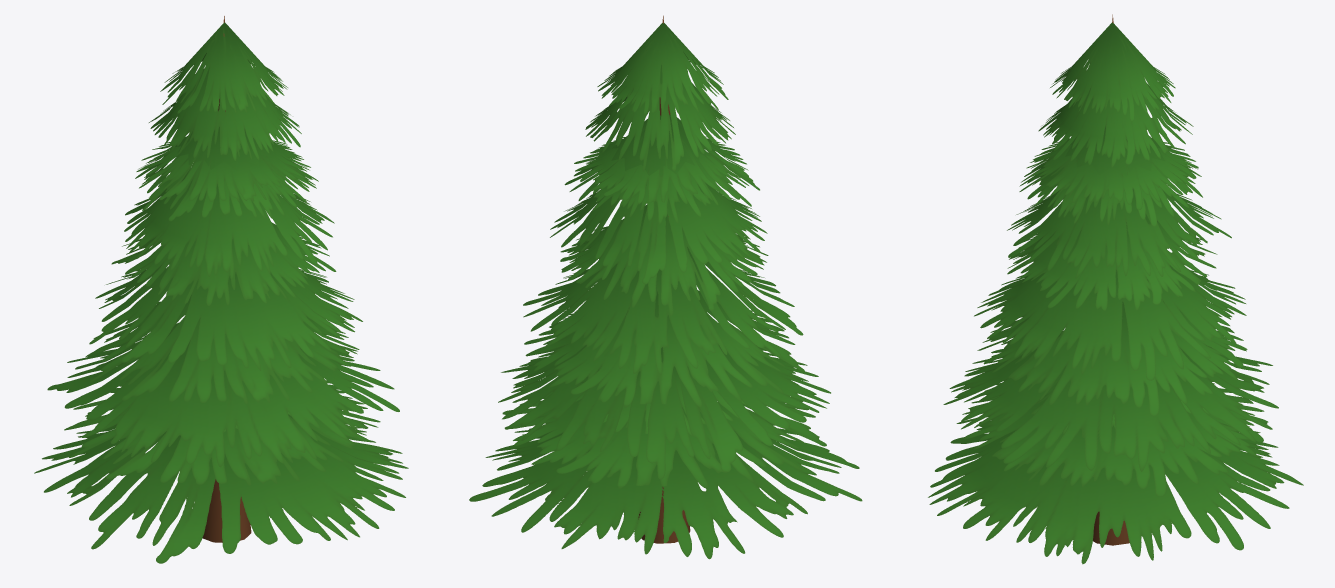
The model's file is Pine_Tree1.fbx.
3 views of the same model, side by side, from view 1: azimuth 30°, elevation 25°; view 2: azimuth 150°, elevation 25°; view 3: azimuth 270°, elevation 25° (orthographic).
Parts seen in each view (by area): view 1: pCylinder69; view 2: pCylinder69; view 3: pCylinder69.
Part boxes in pixels (x1,y1,x2,y2): pCylinder69: (34, 16, 408, 563); pCylinder69: (469, 15, 862, 559); pCylinder69: (928, 14, 1303, 564).
Bounding box in the file's own units: 390 × 536 × 390.
